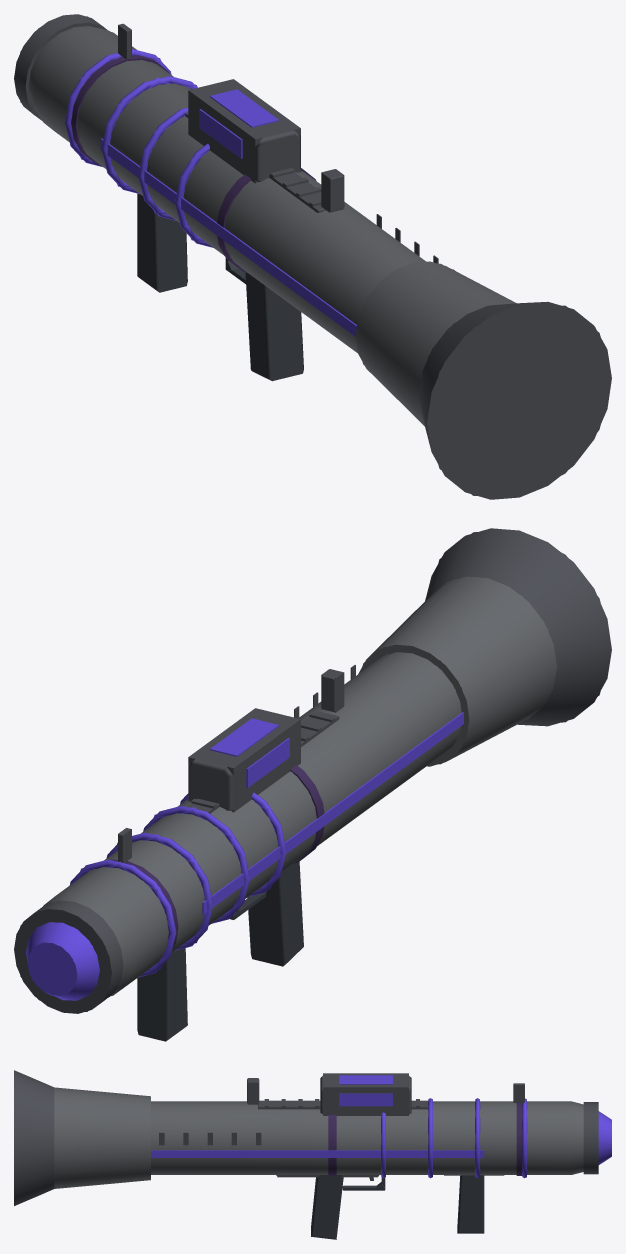
The model's file is gravity.glb.
The picture shows the model from 3 angles, top to bottom: view 1: azimuth 30°, elevation 25°; view 2: azimuth 150°, elevation 25°; view 3: azimuth 270°, elevation 25°; orthographic projection. The views are drawn at different scales.
Parts seen in each view (by area): view 1: L0, L1; view 2: L0, L1; view 3: L0, L1.
Boxes of the visible parts, <box> form: L0: <box>14,14,611,499</box>; L1: <box>20,16,611,496</box>; L0: <box>14,528,611,1041</box>; L1: <box>14,532,600,1012</box>; L0: <box>14,1070,611,1239</box>; L1: <box>14,1070,611,1205</box>.
Size of the model in its own units: 0.2035 by 0.2607 by 0.89.
